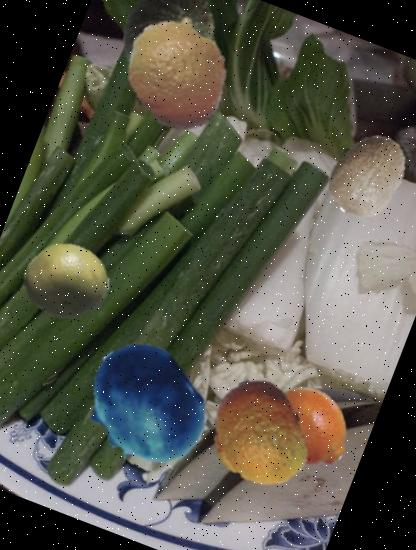Huckleberry: (62, 325, 226, 488)
Kiwi: (311, 120, 416, 234)
Mandarine: (104, 1, 251, 148), (187, 364, 328, 506)
Melon: (99, 0, 231, 103)
Pomelo: (10, 226, 122, 337)
Tangelo: (252, 372, 364, 484)
